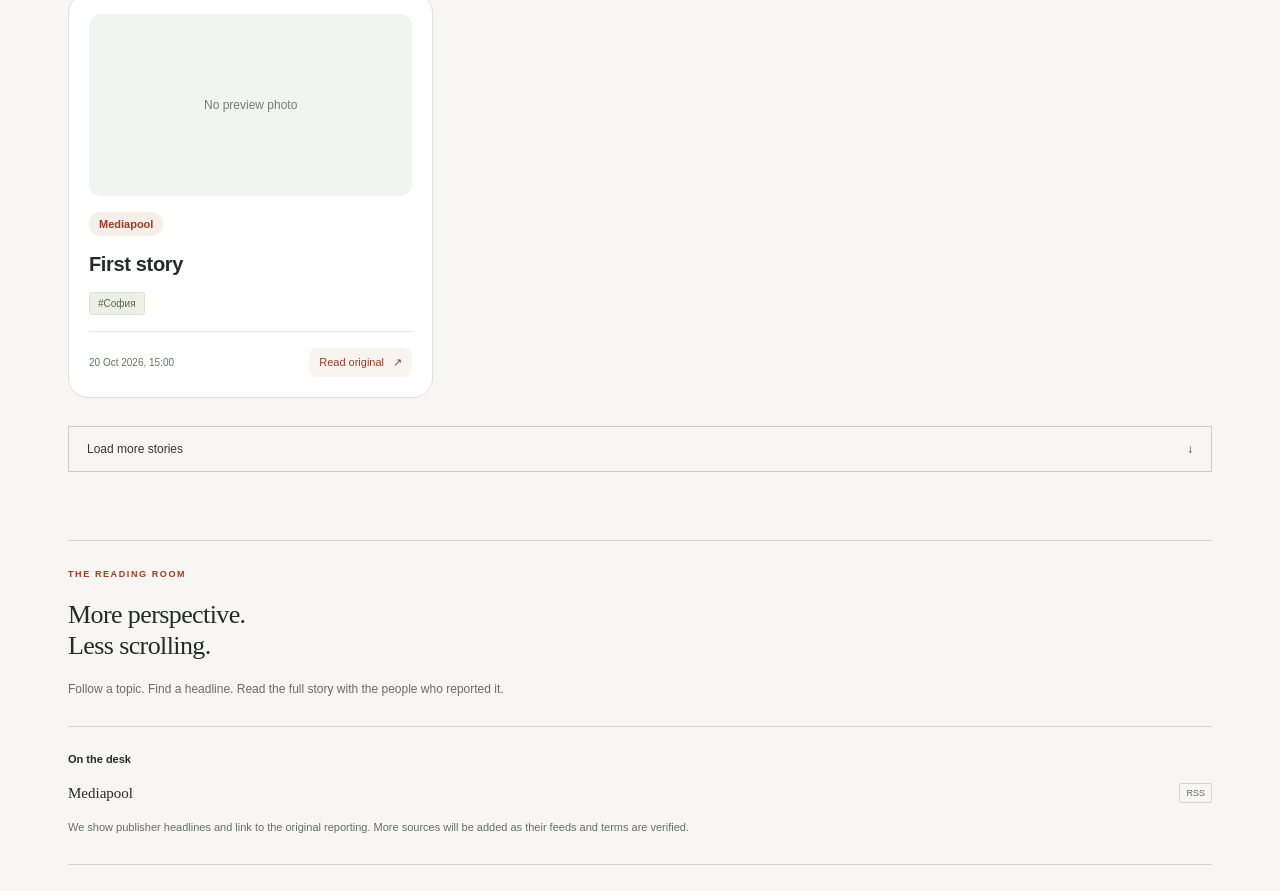
news feed › appends another page and resets the feed on filter changes
(page scrolled)
Click the button "Load more stories ↓" at (135, 449), box [68,426,1212,472]
(page scrolled)
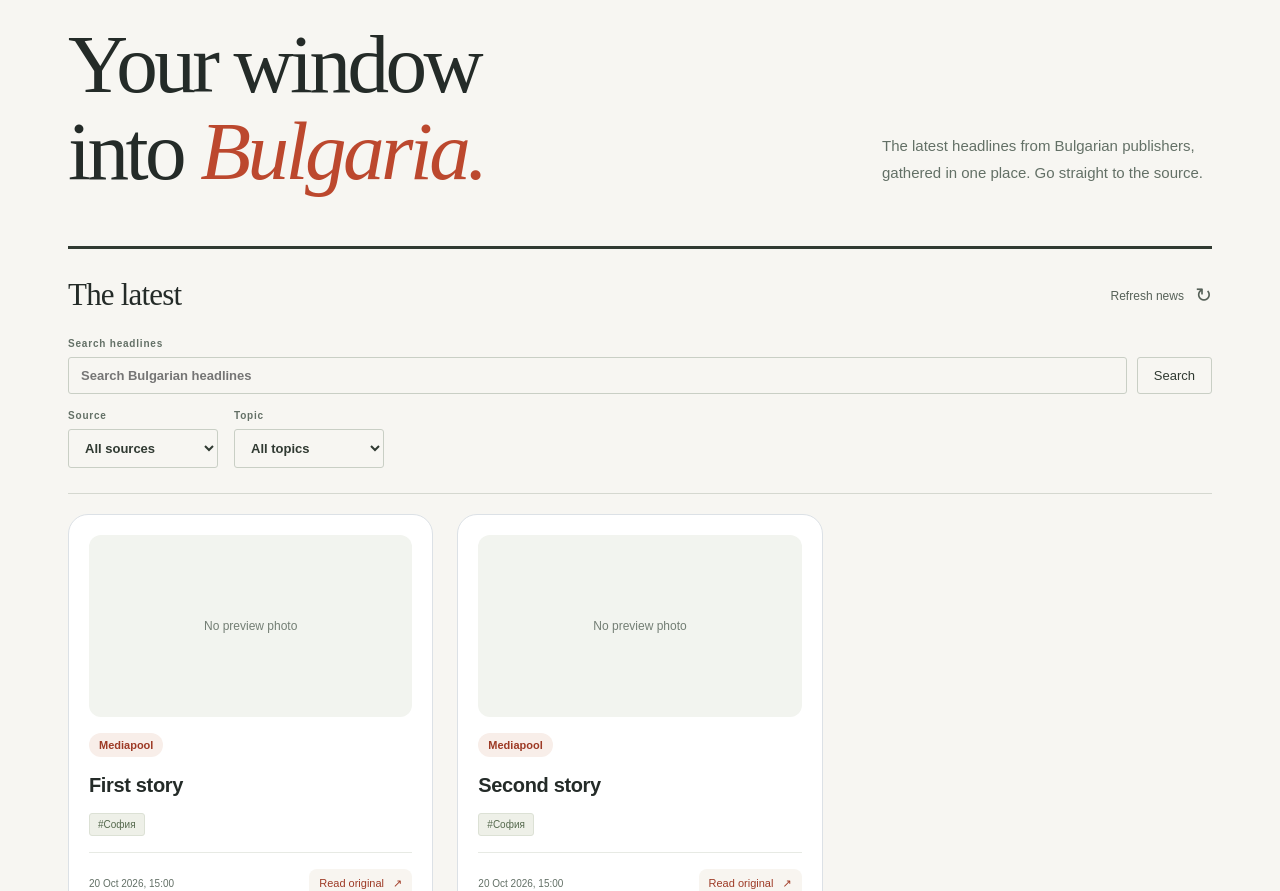
Expected: the link "First story" is shown, [89,774,183,796]
Now the link "Second story" is shown, box [478,774,601,796]
Select "София" in the dropdown labelled "Topic" at (309, 449), box [234,429,384,468]
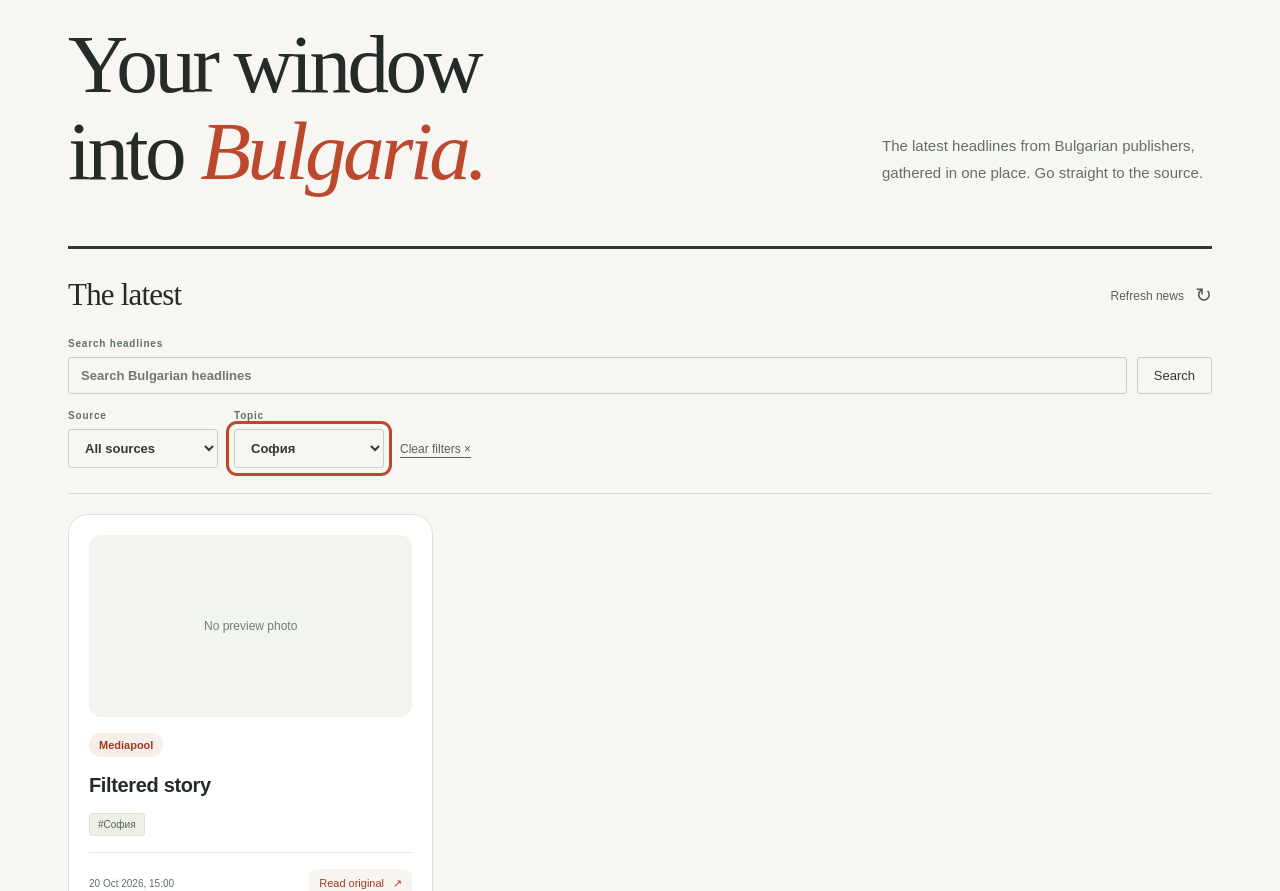
Now the link "First story" is gone
Now the link "Filtered story" is shown, box [89,774,211,796]
